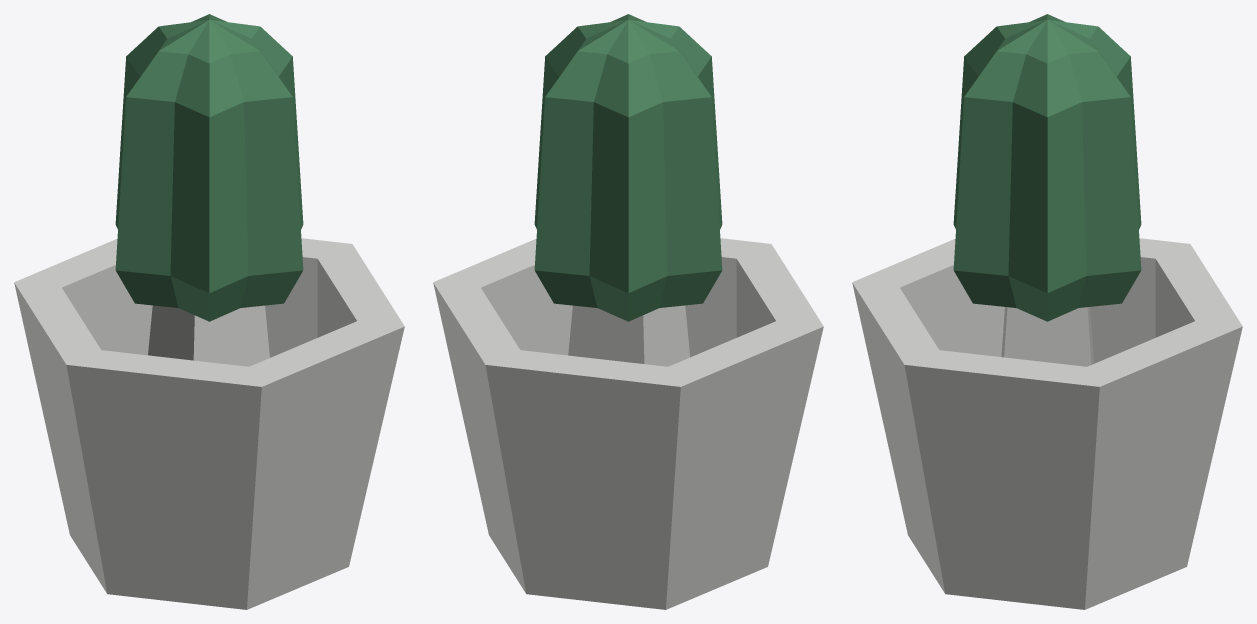
The model's file is plant-small-cactus.glb.
3 views of the same model, side by side, from view 1: azimuth 30°, elevation 25°; view 2: azimuth 150°, elevation 25°; view 3: azimuth 270°, elevation 25° (orthographic).
Visible parts, largest first — view 1: plant-small-cactus; view 2: plant-small-cactus; view 3: plant-small-cactus.
Part boxes in pixels (x1,y1,x2,y2): plant-small-cactus: (14,14,404,609); plant-small-cactus: (433,14,823,609); plant-small-cactus: (852,14,1242,609).
Size of the model in its own units: 0.22 by 0.33 by 0.22.
